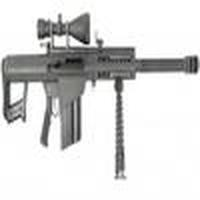gun: (3, 48, 200, 129)
